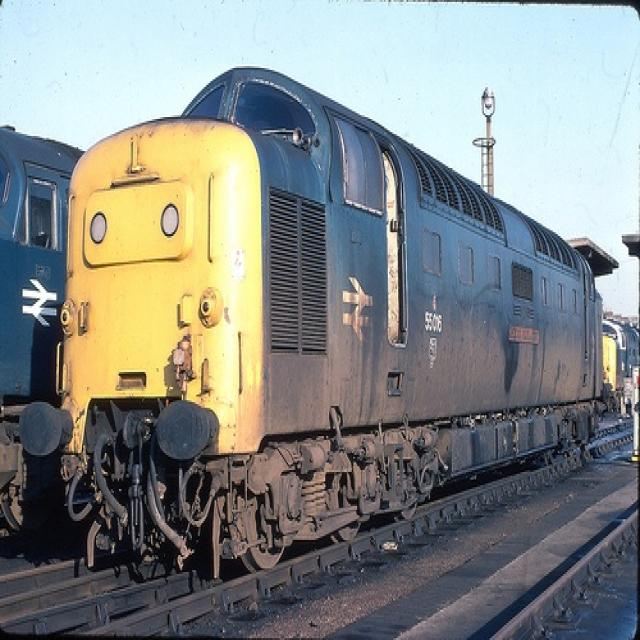train: (19, 65, 640, 577), (1, 122, 70, 547)
